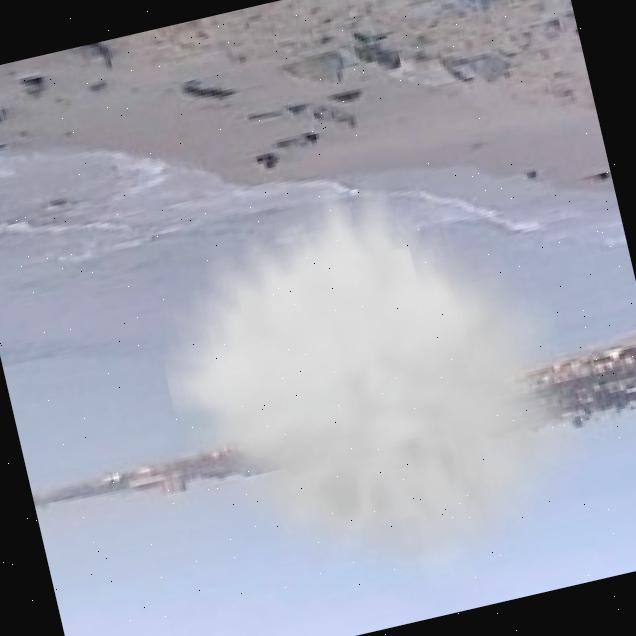smoke: (132, 141, 608, 636)
